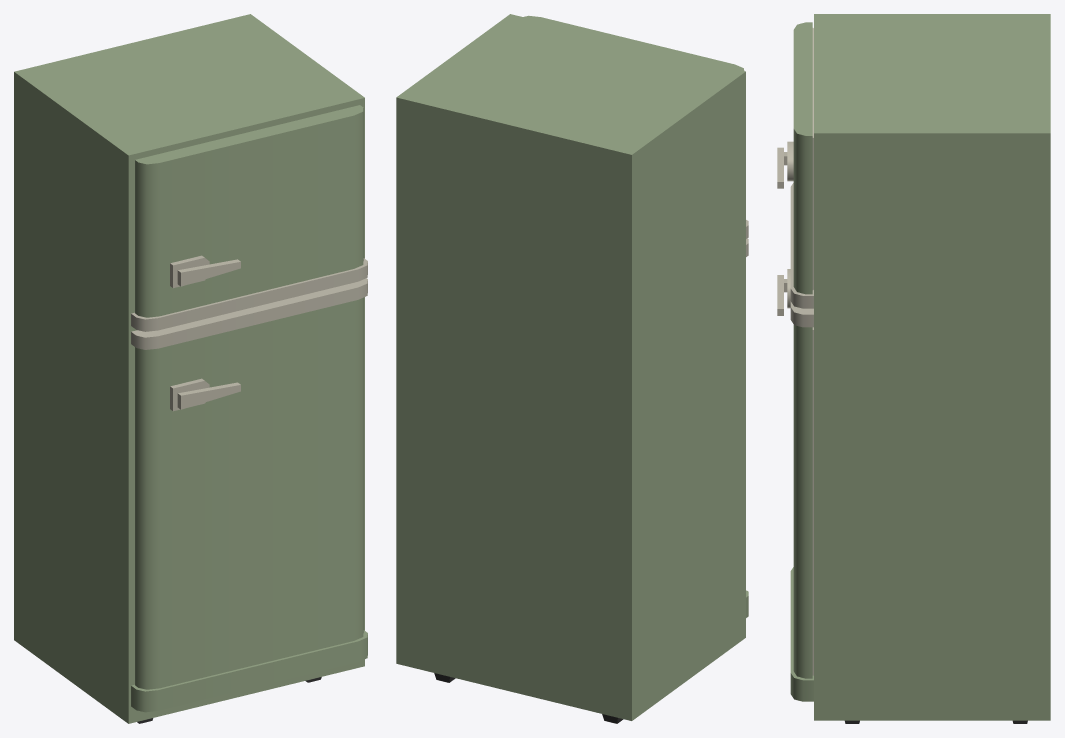
The model's file is Fridge_01.fbx.
3 renders of one model, left to right at view 1: azimuth 30°, elevation 25°; view 2: azimuth 150°, elevation 25°; view 3: azimuth 270°, elevation 25°, orthographic. The views are drawn at different scales.
Parts seen in each view (by area): view 1: Fridge_01, Fridge_01_Door_Bottom, Fridge_01_Door_Top; view 2: Fridge_01, Fridge_01_Door_Top; view 3: Fridge_01, Fridge_01_Door_Bottom, Fridge_01_Door_Top.
Part boxes in pixels (x1,y1,x2,y2): Fridge_01: [14, 14, 364, 723]; Fridge_01_Door_Bottom: [131, 278, 367, 712]; Fridge_01_Door_Top: [131, 105, 367, 331]; Fridge_01: [396, 14, 745, 723]; Fridge_01_Door_Top: [523, 15, 748, 238]; Fridge_01: [814, 14, 1050, 723]; Fridge_01_Door_Bottom: [777, 269, 813, 701]; Fridge_01_Door_Top: [777, 22, 813, 308].
Size of the model in its own units: 0.7707 by 1.82 by 0.7465.
